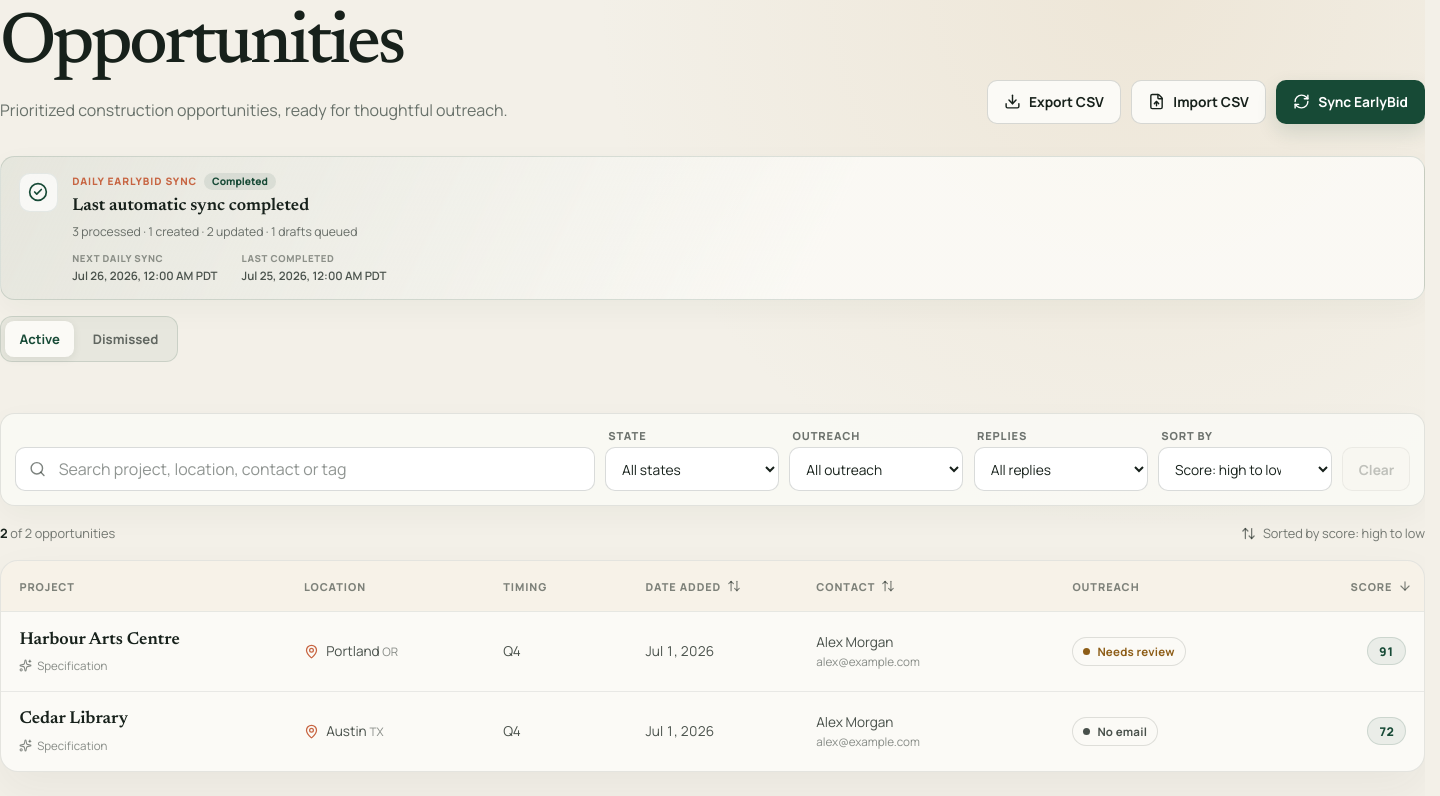
Test: Opportunities list › opens details when clicking anywhere on an opportunity row
This screenshot has width=1440, height=796.
Expected: the table is shown, [1,561,1424,771]
Click the row named "Open opportunity Harbour Arts Centre" at (712, 652), box [1,612,1424,691]
(page scrolled)
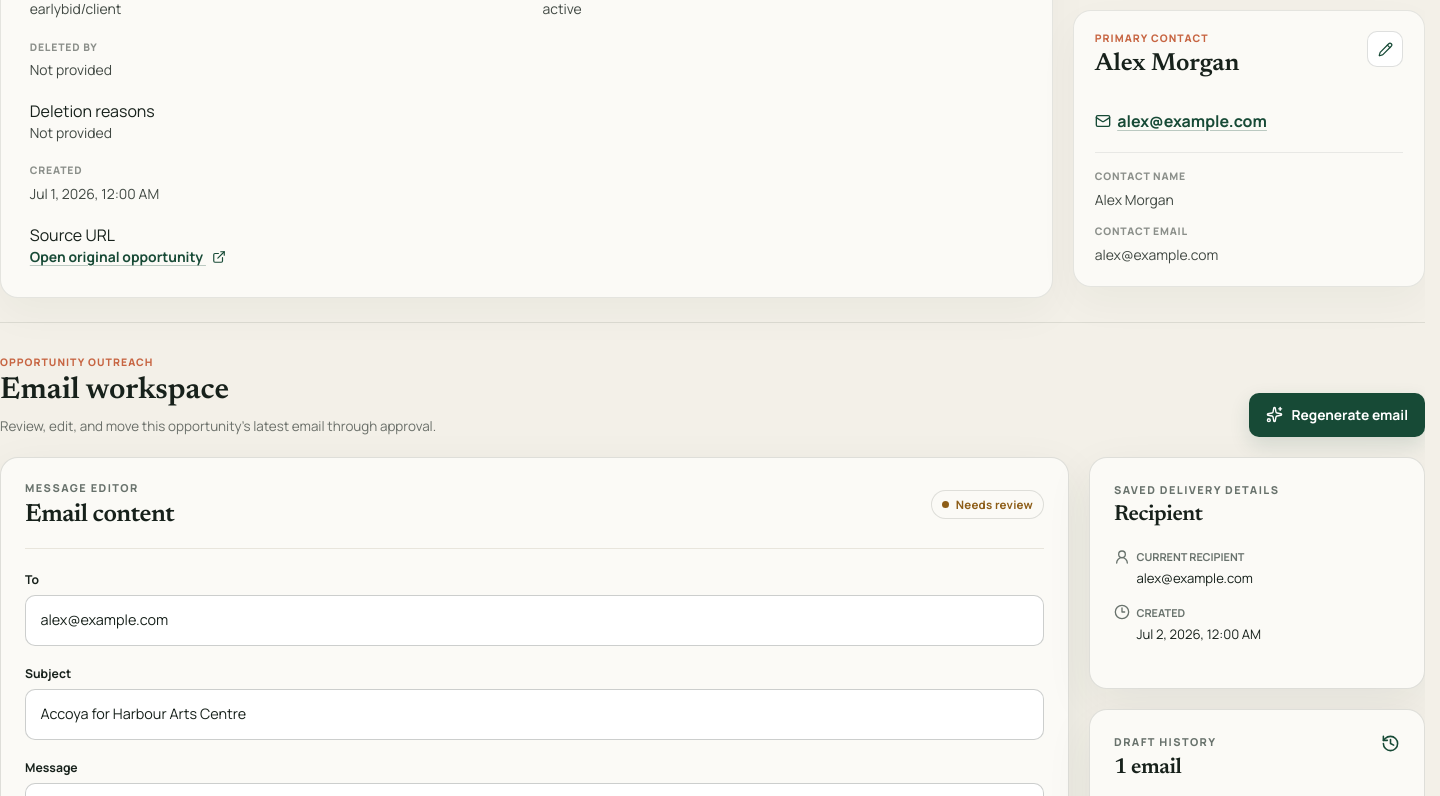
Expected: the heading "Email workspace" is shown, [0,376,229,406]
